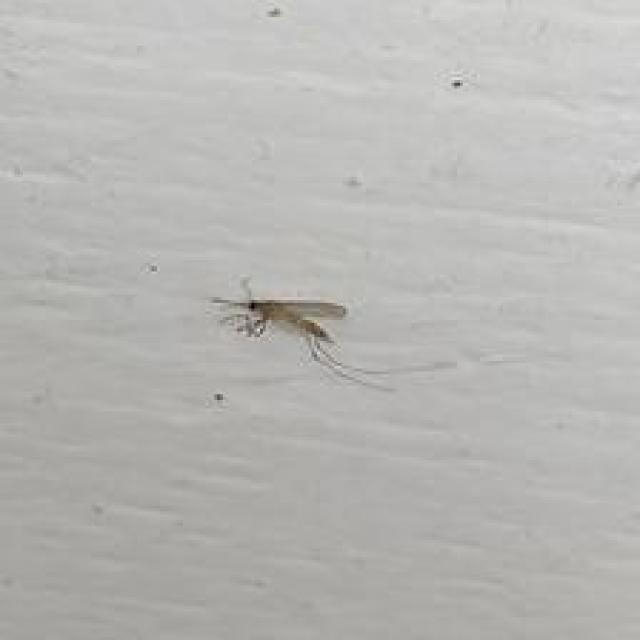Culex: (208, 277, 392, 392)
